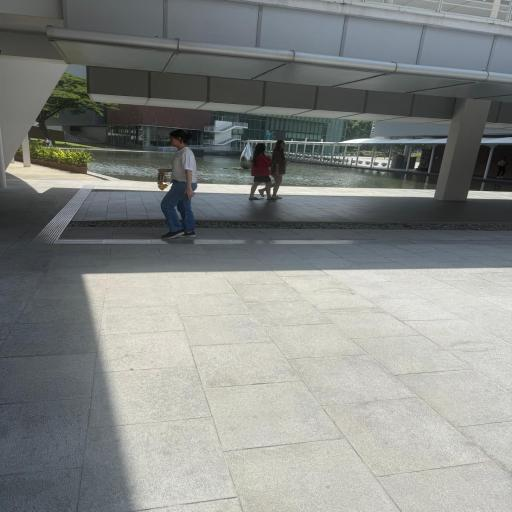person_left: (158, 128, 198, 240)
person_right: (249, 142, 274, 200), (267, 140, 286, 200)
